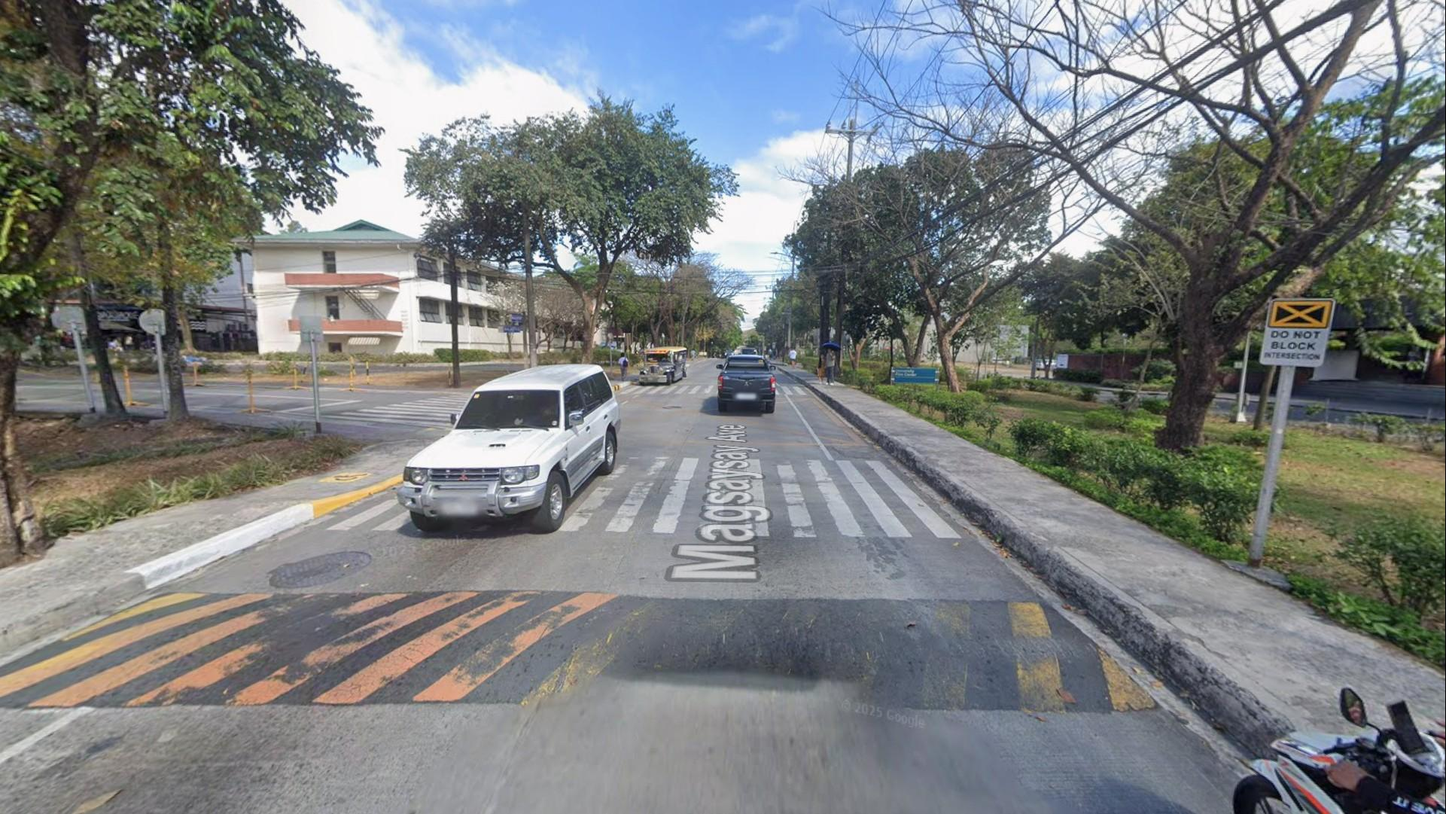pedestrian: (825, 347, 836, 386), (617, 352, 629, 381), (816, 351, 826, 385), (788, 346, 797, 369), (690, 347, 696, 362), (768, 347, 774, 360)
